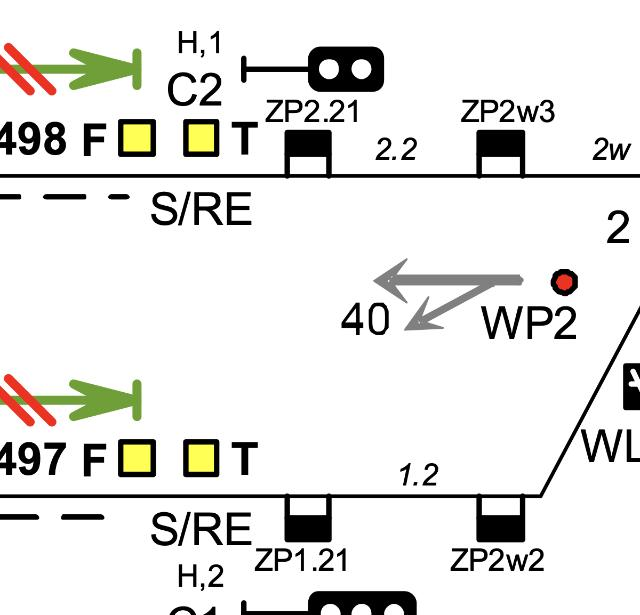radzaehler: (472, 126, 534, 184), (280, 488, 336, 548), (471, 490, 533, 544), (282, 126, 336, 184)
